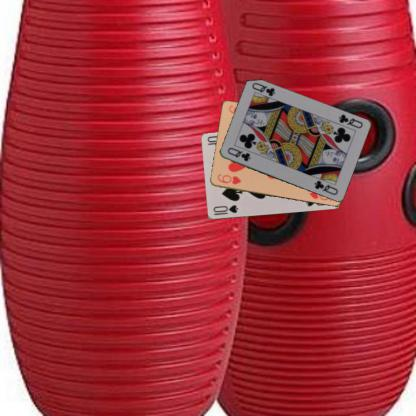10s: (211, 202, 239, 217)
6h: (215, 172, 242, 186)
Qc: (336, 112, 363, 130), (225, 145, 251, 163)
